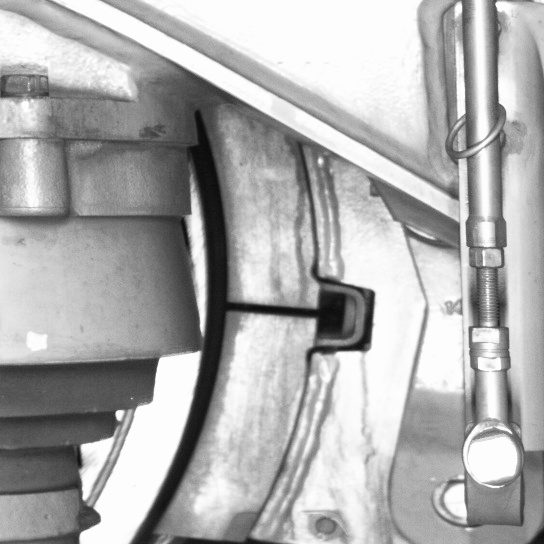KnifeSwitch: (125, 141, 342, 541)
